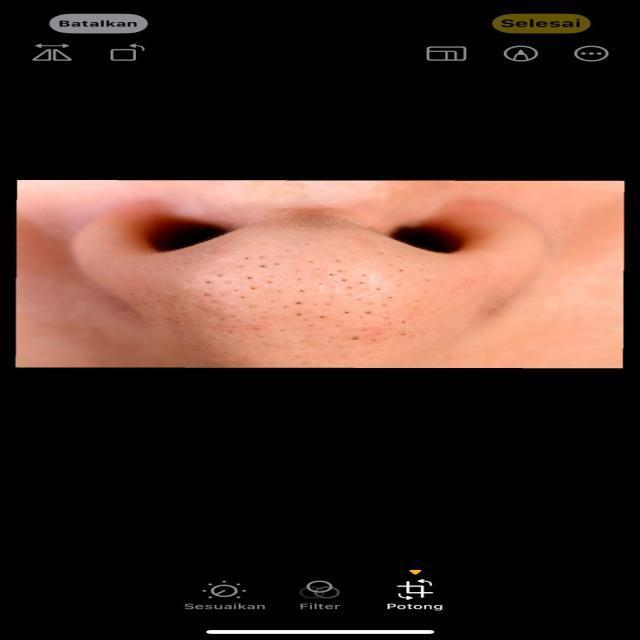blackhead: (187, 244, 434, 348)
